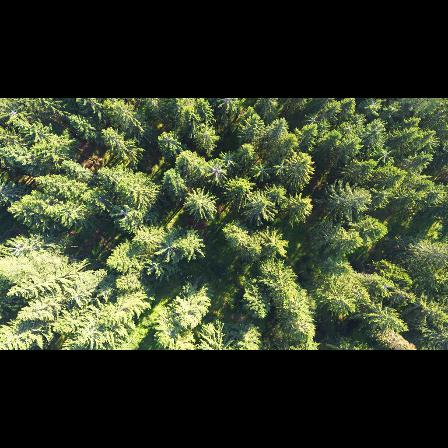Sick: (153, 231, 185, 266), (108, 199, 142, 231), (203, 158, 229, 186), (299, 110, 326, 132), (252, 161, 275, 183), (375, 146, 397, 164)
